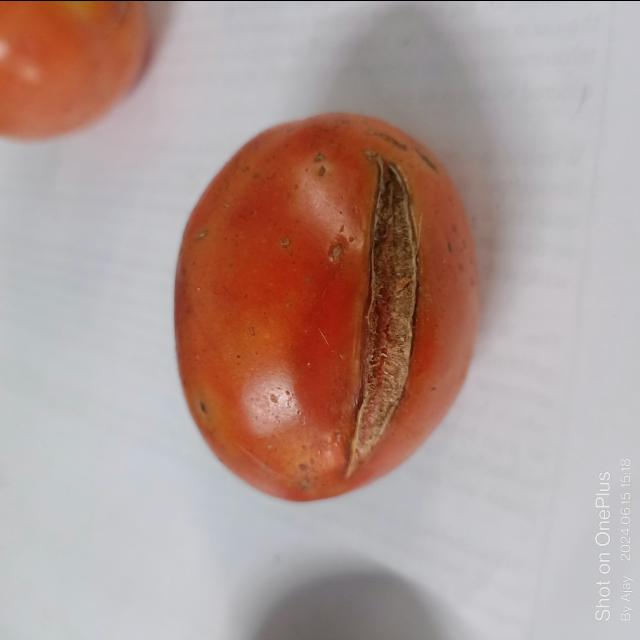tomato_cracking: (346, 150, 418, 456)
